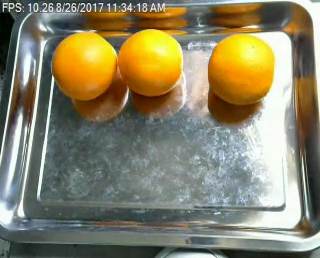Orange: (207, 31, 275, 104), (115, 27, 182, 94), (51, 31, 116, 99)
